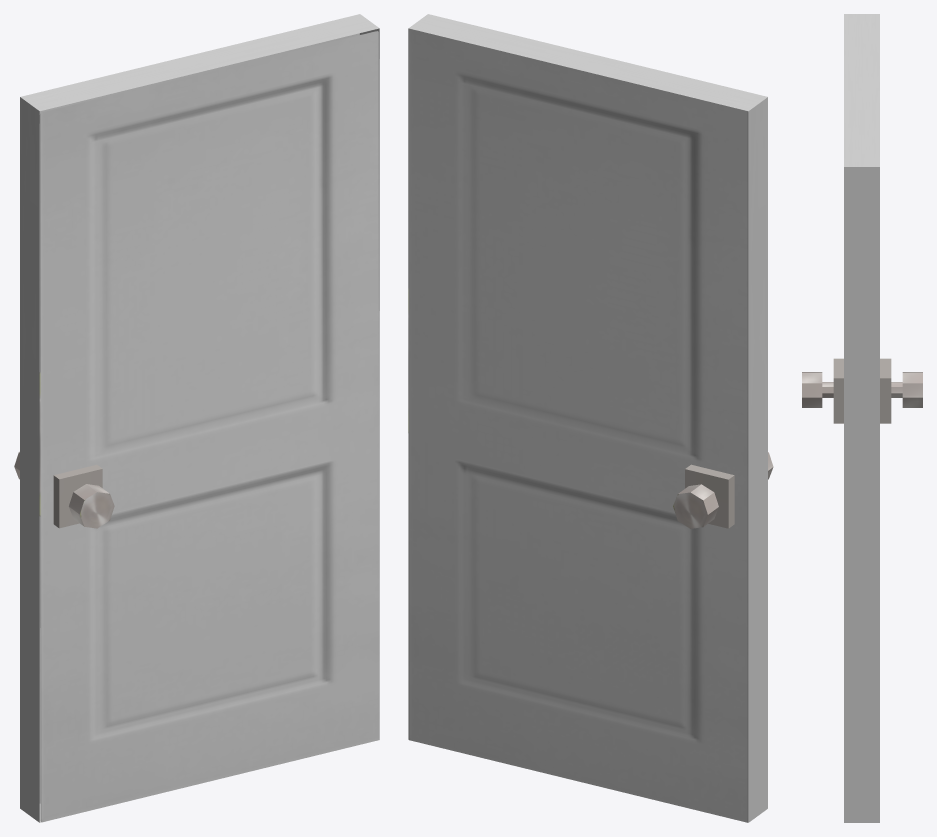
Rendered from interiorDoor.fbx.
3 views of the same model, side by side, from view 1: azimuth 30°, elevation 25°; view 2: azimuth 150°, elevation 25°; view 3: azimuth 270°, elevation 25° (orthographic). The views are drawn at different scales.
Parts seen in each view (by area): view 1: Cube, Cube.001, Plane.003; view 2: Cube, Cube.001, Plane.001; view 3: Cube, Cube.001, Plane.001, Plane.003.
Boxes of the visible parts, x1=… form: Cube: x1=20, y1=14, x2=379, y2=822; Cube.001: x1=53, y1=464, x2=102, y2=528; Plane.003: x1=69, y1=484, x2=114, y2=528; Cube: x1=408, y1=14, x2=767, y2=822; Cube.001: x1=685, y1=464, x2=734, y2=528; Plane.001: x1=673, y1=484, x2=718, y2=528; Cube: x1=844, y1=14, x2=879, y2=822; Cube.001: x1=833, y1=358, x2=891, y2=423; Plane.001: x1=902, y1=372, x2=922, y2=407; Plane.003: x1=802, y1=372, x2=822, y2=407.
Bounding box in the file's own units: 200 × 400 × 66.82.
